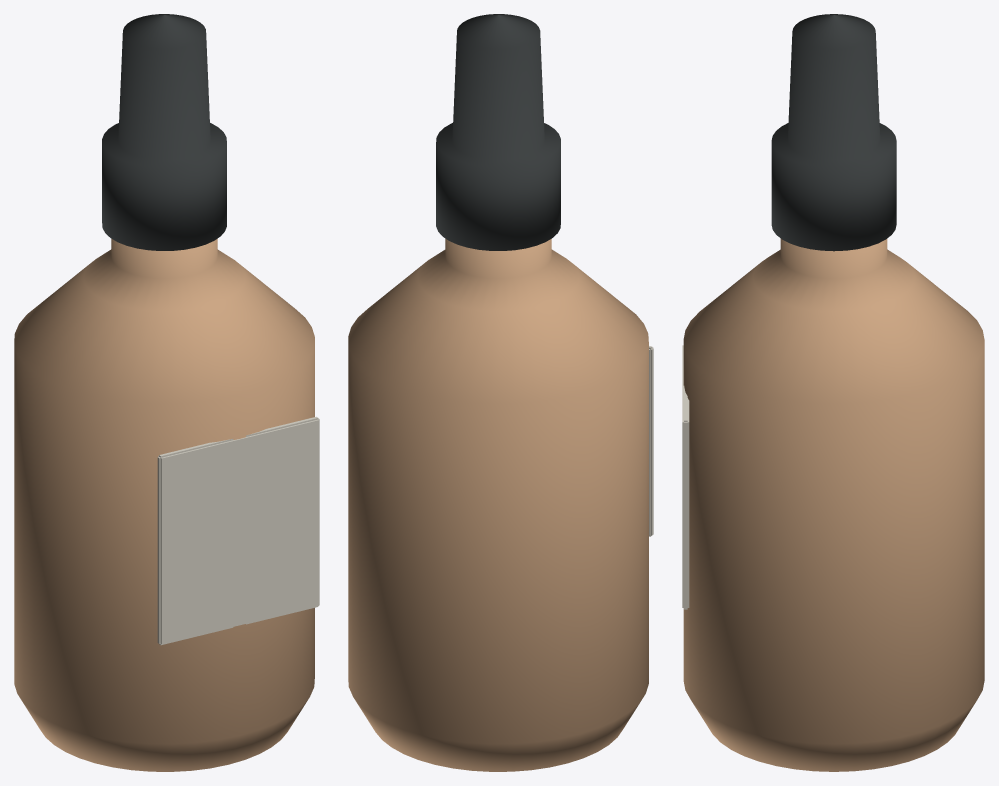
File: campaign_serum.glb
3 renders of one model, left to right at view 1: azimuth 30°, elevation 25°; view 2: azimuth 150°, elevation 25°; view 3: azimuth 270°, elevation 25°, orthographic.
Parts seen in each view (by area): view 1: campaign_serum_V17_ceramic_clay, campaign_serum_V17_lacquer_chalk, campaign_serum_Anodised_graphite; view 2: campaign_serum_V17_ceramic_clay, campaign_serum_Anodised_graphite, campaign_serum_V17_lacquer_chalk; view 3: campaign_serum_V17_ceramic_clay, campaign_serum_Anodised_graphite, campaign_serum_V17_lacquer_chalk.
Boxes of the visible parts, x1,y1,x2,y2 form: campaign_serum_V17_ceramic_clay: (14, 239, 314, 771); campaign_serum_V17_lacquer_chalk: (157, 416, 319, 645); campaign_serum_Anodised_graphite: (102, 14, 226, 250); campaign_serum_V17_ceramic_clay: (348, 238, 648, 771); campaign_serum_Anodised_graphite: (436, 14, 560, 250); campaign_serum_V17_lacquer_chalk: (649, 346, 653, 536); campaign_serum_V17_ceramic_clay: (683, 238, 984, 771); campaign_serum_Anodised_graphite: (771, 14, 896, 251); campaign_serum_V17_lacquer_chalk: (682, 345, 689, 609).
Size of the model in its own units: 0.13 by 0.335 by 0.1305.
